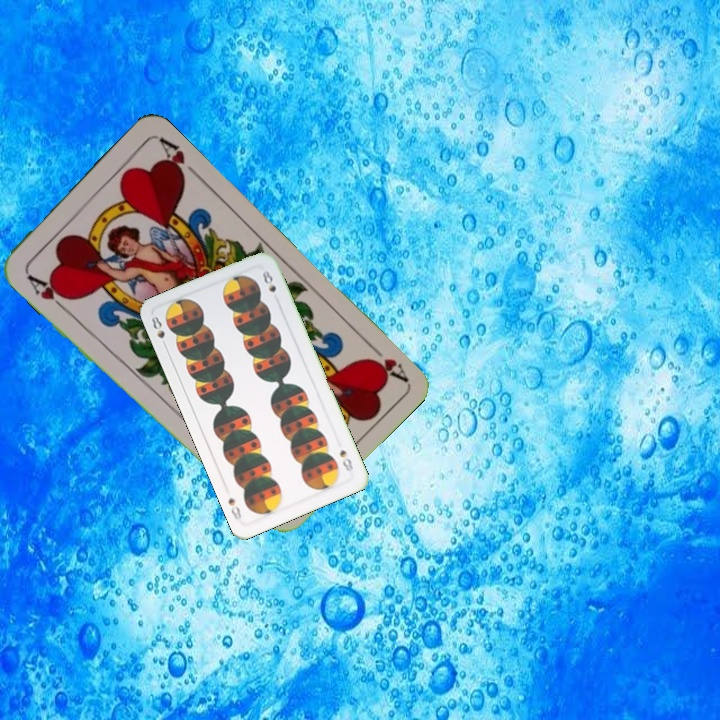HA: (361, 337, 409, 383), (23, 270, 73, 314)
S8: (147, 312, 170, 351), (335, 445, 356, 475)
